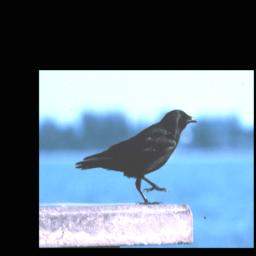Crow: (73, 106, 199, 206)
